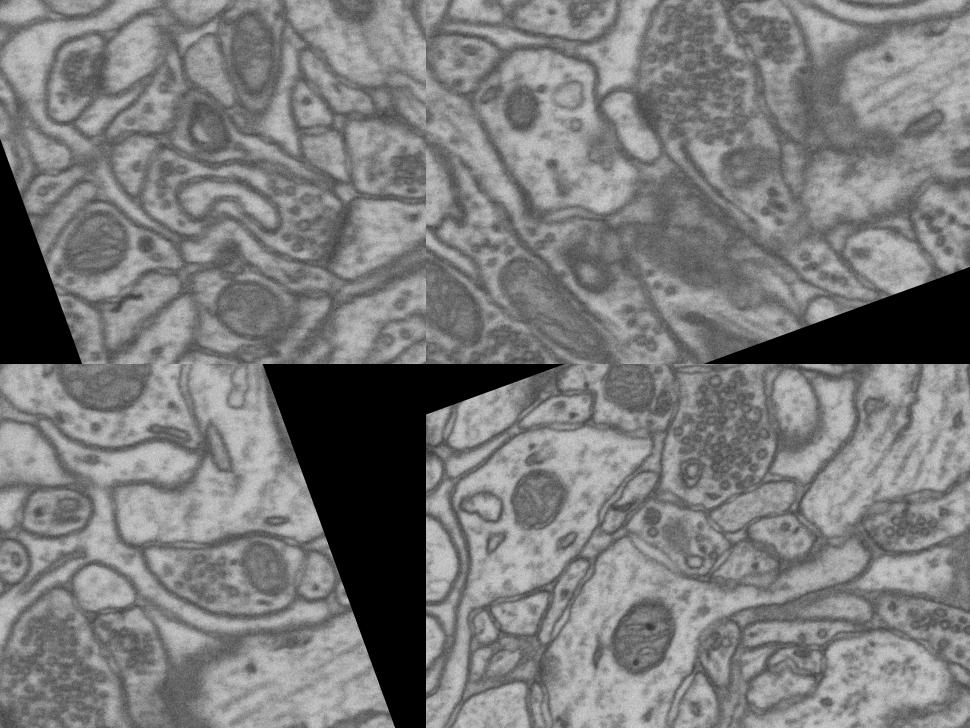mitochondria: (481, 223, 633, 364), (612, 194, 744, 329), (586, 575, 700, 691), (195, 253, 303, 363), (212, 364, 304, 488), (208, 0, 299, 110), (484, 448, 584, 544), (44, 196, 146, 290), (426, 228, 495, 364), (37, 364, 170, 433), (226, 523, 305, 612), (486, 70, 561, 148), (582, 364, 673, 427), (170, 85, 240, 165), (681, 303, 764, 364), (944, 195, 970, 271)
